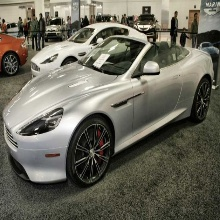no damage: (2, 36, 214, 187), (31, 22, 154, 66)
